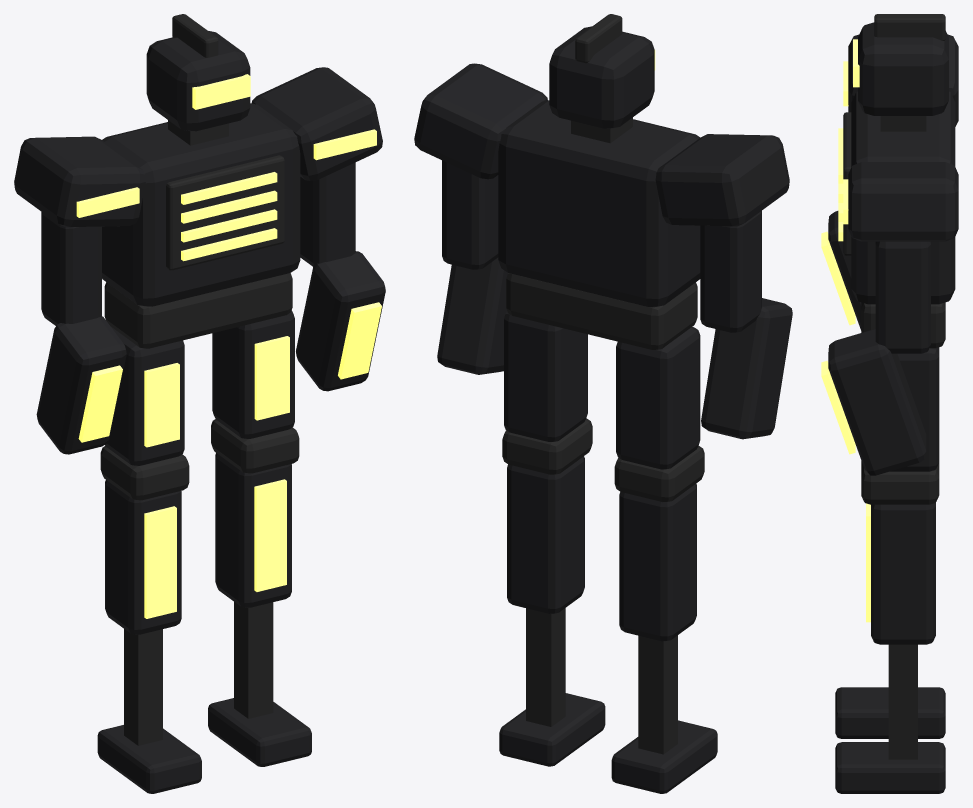
Rendered from robot.glb.
The picture shows the model from 3 angles, left to right: view 1: azimuth 30°, elevation 25°; view 2: azimuth 150°, elevation 25°; view 3: azimuth 270°, elevation 25°; orthographic projection. The views are drawn at different scales.
Visible parts, largest first — view 1: torso, hombro, cadera, hombro.001, antebrazo, antebrazo.001, espinilla, espinilla.001, casco, pecho, muslo.001, brazo (+23 smaller); view 2: torso, espinilla, espinilla.001, muslo, hombro, muslo.001, hombro.001, antebrazo, cadera, casco, antebrazo.001, brazo (+9 smaller); view 3: antebrazo.001, espinilla.001, hombro.001, torso, casco, brazo.001, pie.001, pie, zanco.001, muslo.001, rodilla.001, cresta (+12 smaller).
Part boxes in pixels (x1,y1,x2,y2): torso: [102, 103, 300, 306]; hombro: [14, 136, 145, 227]; cadera: [104, 273, 292, 348]; hombro.001: [251, 67, 382, 180]; antebrazo: [36, 316, 126, 454]; antebrazo.001: [296, 251, 385, 391]; espinilla: [105, 480, 181, 634]; espinilla.001: [215, 453, 291, 607]; casco: [146, 31, 250, 131]; pecho: [166, 155, 284, 270]; muslo.001: [212, 310, 294, 438]; brazo: [41, 212, 101, 325]; torso: [498, 100, 700, 307]; espinilla: [619, 483, 696, 641]; espinilla.001: [507, 456, 584, 613]; muslo: [616, 327, 700, 469]; hombro: [655, 134, 789, 226]; muslo.001: [504, 311, 587, 441]; hombro.001: [414, 63, 547, 179]; antebrazo: [701, 298, 792, 439]; cadera: [506, 273, 697, 349]; casco: [549, 26, 654, 128]; antebrazo.001: [437, 257, 507, 374]; brazo: [700, 211, 761, 332]; antebrazo.001: [828, 329, 926, 475]; espinilla.001: [871, 502, 935, 644]; hombro.001: [848, 162, 958, 241]; torso: [851, 91, 955, 304]; casco: [858, 22, 948, 115]; brazo.001: [875, 241, 930, 353]; pie.001: [835, 742, 945, 793]; pie: [835, 687, 945, 738]; zanco.001: [888, 644, 917, 759]; muslo.001: [890, 347, 939, 471]; rodilla.001: [861, 461, 939, 504]; cresta: [874, 14, 945, 40].
Bounding box in the file's own units: 1.18 × 2.51 × 0.4228.
